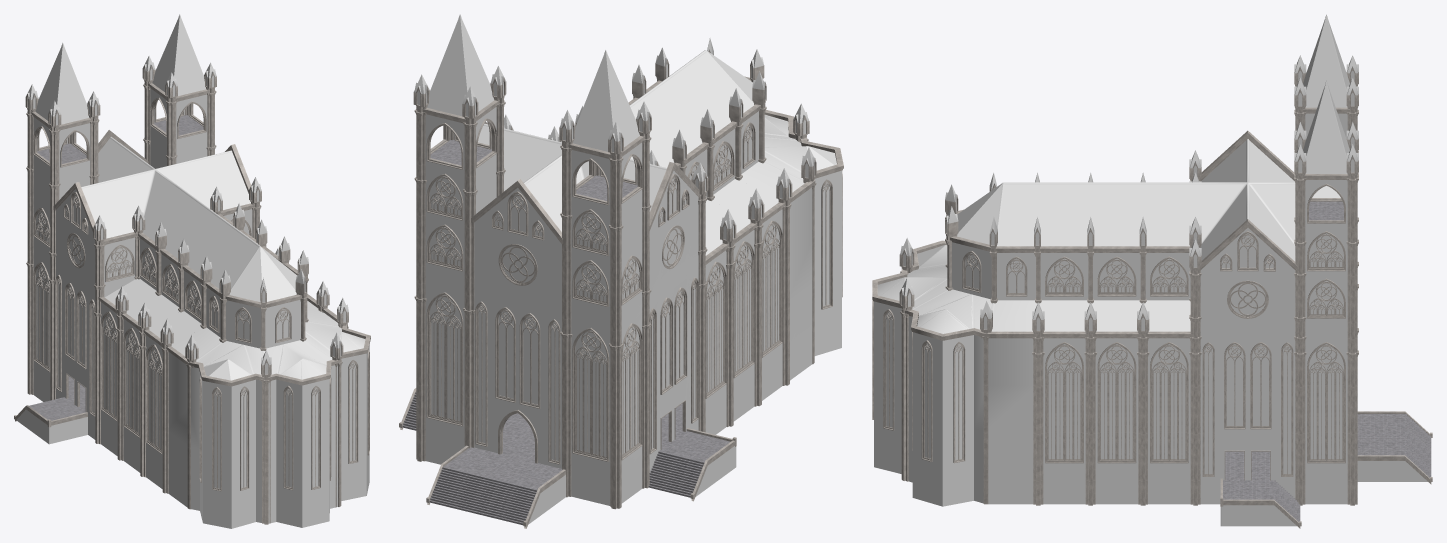
The model's file is Church_C.fbx.
3 views of the same model, side by side, from view 1: azimuth 30°, elevation 25°; view 2: azimuth 150°, elevation 25°; view 3: azimuth 270°, elevation 25° (orthographic). The views are drawn at different scales.
Visible parts, largest first — view 1: Church_C; view 2: Church_C; view 3: Church_C.
Boxes of the visible parts, x1=… form: Church_C: x1=14, y1=14, x2=370, y2=528; Church_C: x1=399, y1=14, x2=843, y2=528; Church_C: x1=872, y1=14, x2=1432, y2=528.
Bounding box in the file's own units: 36.33 × 64.19 × 52.43.
